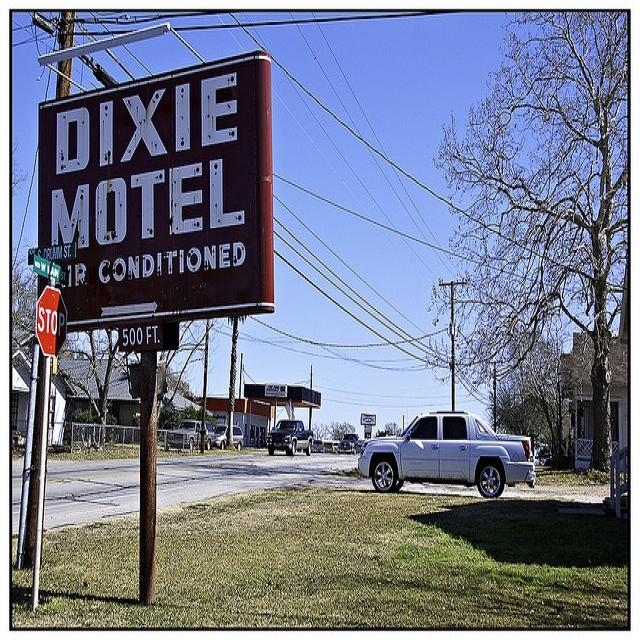car: (357, 412, 531, 497), (266, 416, 312, 455), (168, 416, 200, 449), (212, 422, 243, 449), (310, 437, 322, 449)
pole: (131, 348, 164, 604), (28, 353, 51, 608), (448, 278, 457, 412)
truck: (265, 416, 313, 455), (167, 418, 214, 447), (336, 430, 364, 453)
